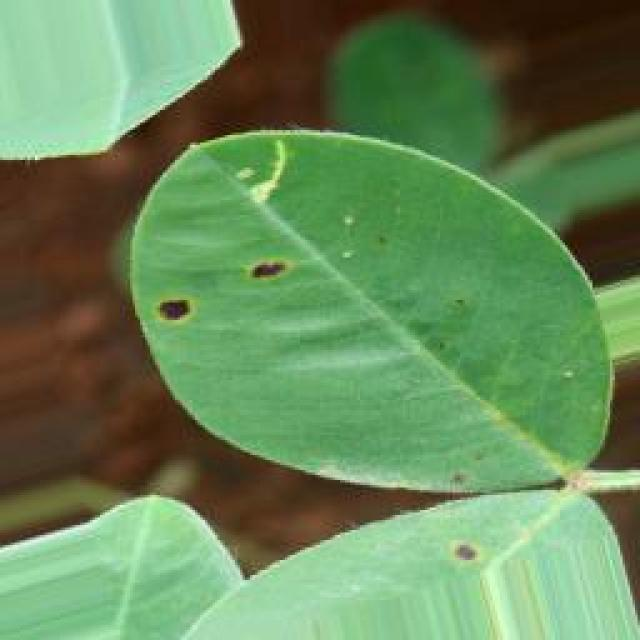Sigatoka: (230, 230, 319, 327), (128, 269, 208, 345), (449, 532, 499, 578)
